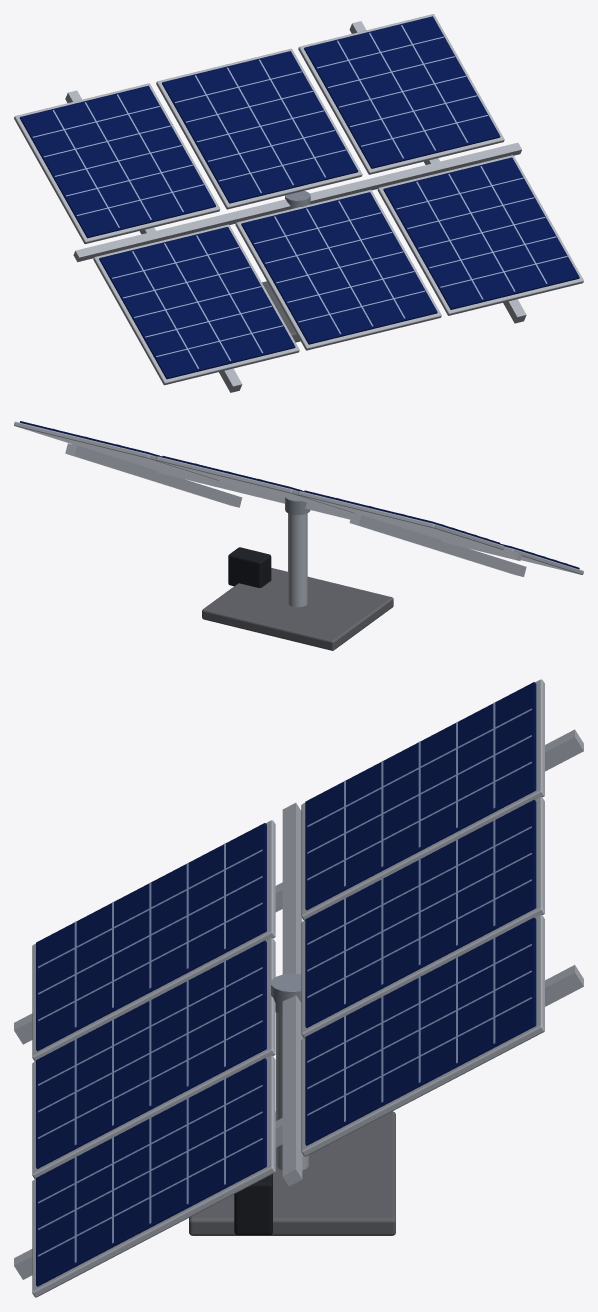
The model's file is solar_array.glb.
3 renders of one model, top to bottom at view 1: azimuth 30°, elevation 25°; view 2: azimuth 150°, elevation 25°; view 3: azimuth 270°, elevation 25°, orthographic. The views are drawn at different scales.
Visible parts, largest first — view 1: PanelPivot; view 2: PanelPivot, SOL_Base; view 3: PanelPivot, SOL_Base.
Part boxes in pixels (bbox=[...]): PanelPivot: bbox=[14, 14, 583, 392]; PanelPivot: bbox=[14, 421, 583, 576]; SOL_Base: bbox=[202, 513, 393, 650]; PanelPivot: bbox=[14, 679, 583, 1297]; SOL_Base: bbox=[189, 1012, 395, 1235].
Size of the model in its own units: 6.7 by 2.82 by 4.4.
